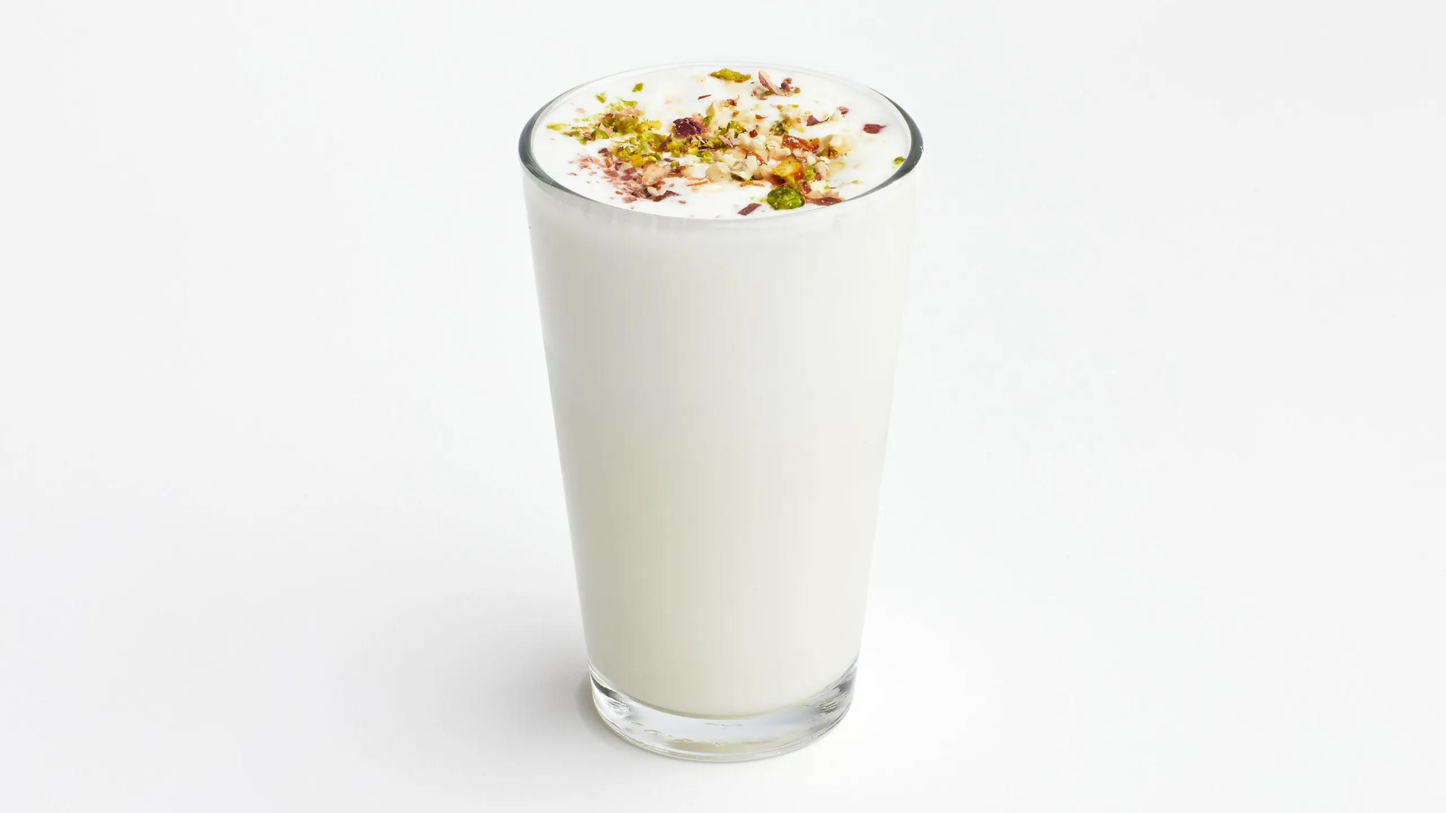Lassi: (527, 66, 911, 719)
